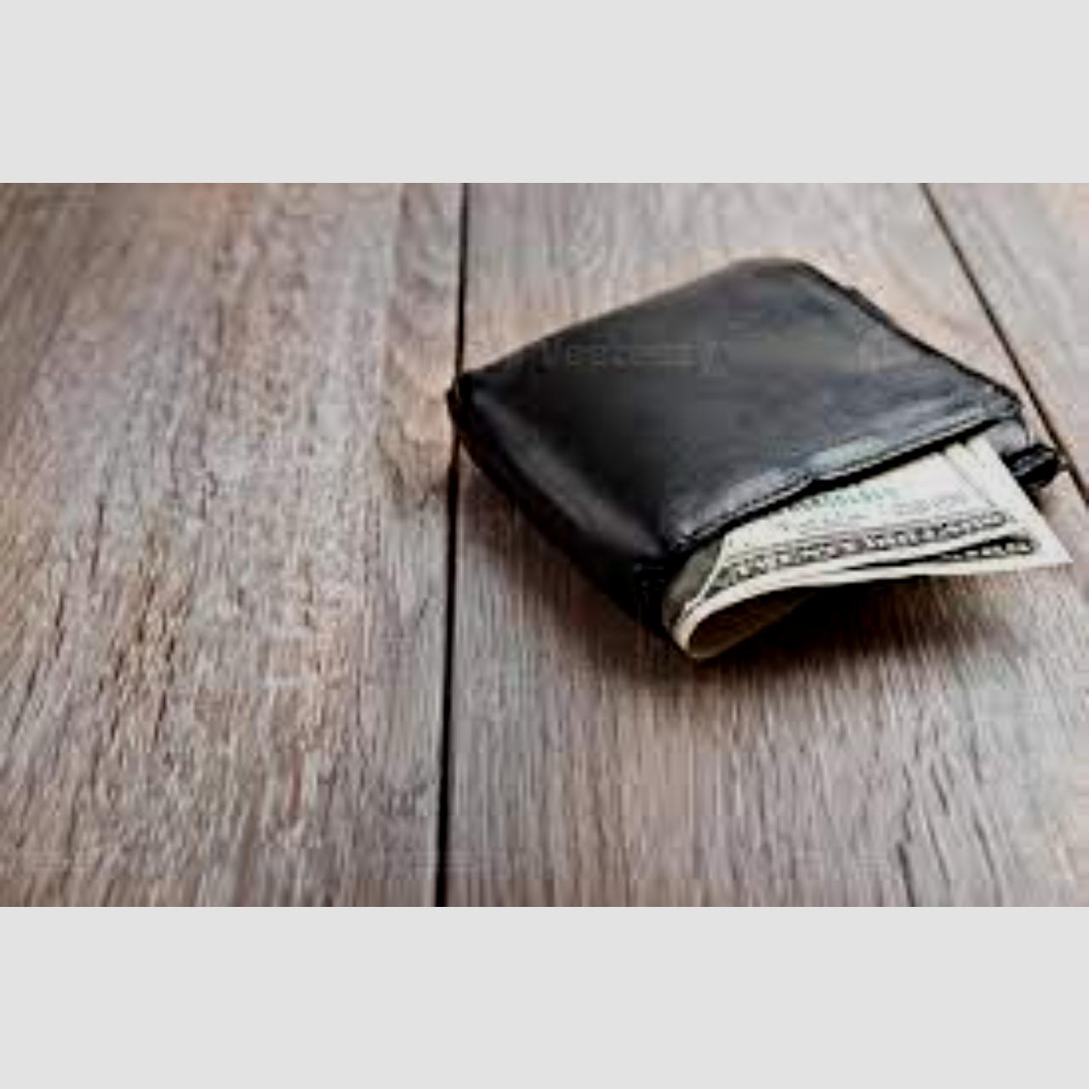wallet: (416, 239, 1089, 671)
